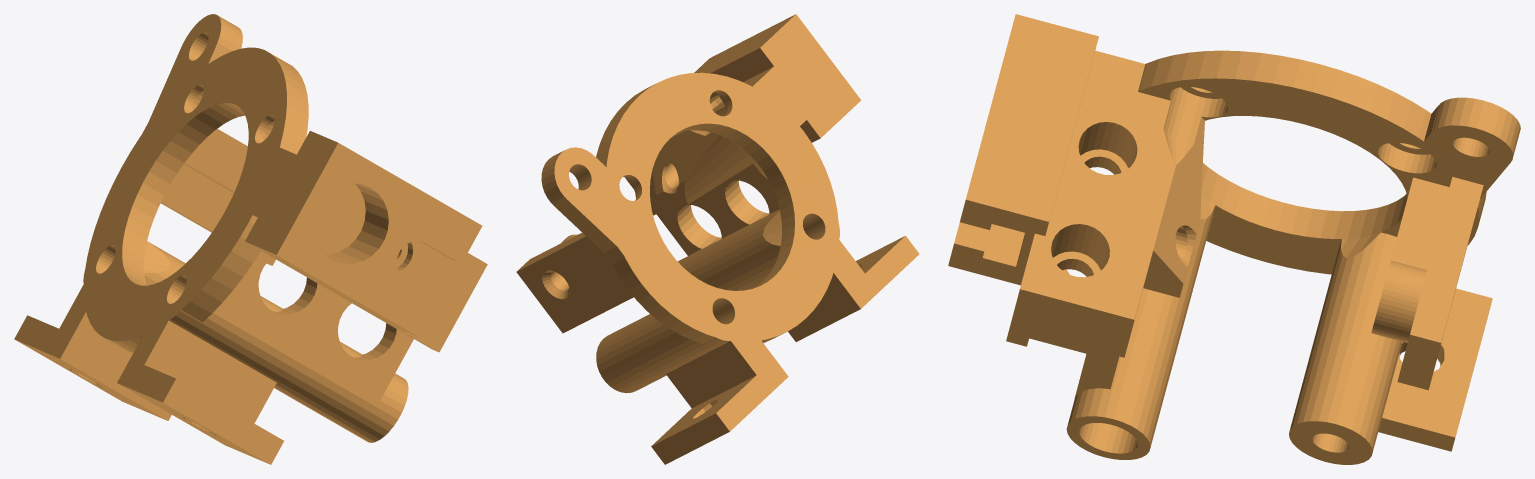
File: gear1_6.dae
The picture shows the model from 3 angles, left to right: view 1: azimuth 30°, elevation 25°; view 2: azimuth 150°, elevation 25°; view 3: azimuth 270°, elevation 25°; orthographic projection. The views are drawn at different scales.
Parts seen in each view (by area): view 1: gear1_019; view 2: gear1_019; view 3: gear1_019.
Part boxes in pixels (box(x1,y1,x2,y2)): gear1_019: box(14, 14, 487, 464); gear1_019: box(516, 14, 919, 464); gear1_019: box(948, 14, 1520, 464).
Bounding box in the file's own units: 0.0679 × 0.089 × 0.0781.
